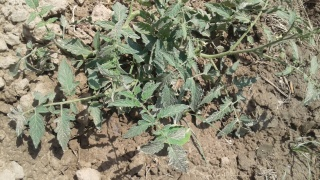tomato plant: (162, 1, 272, 66), (67, 36, 155, 116)
